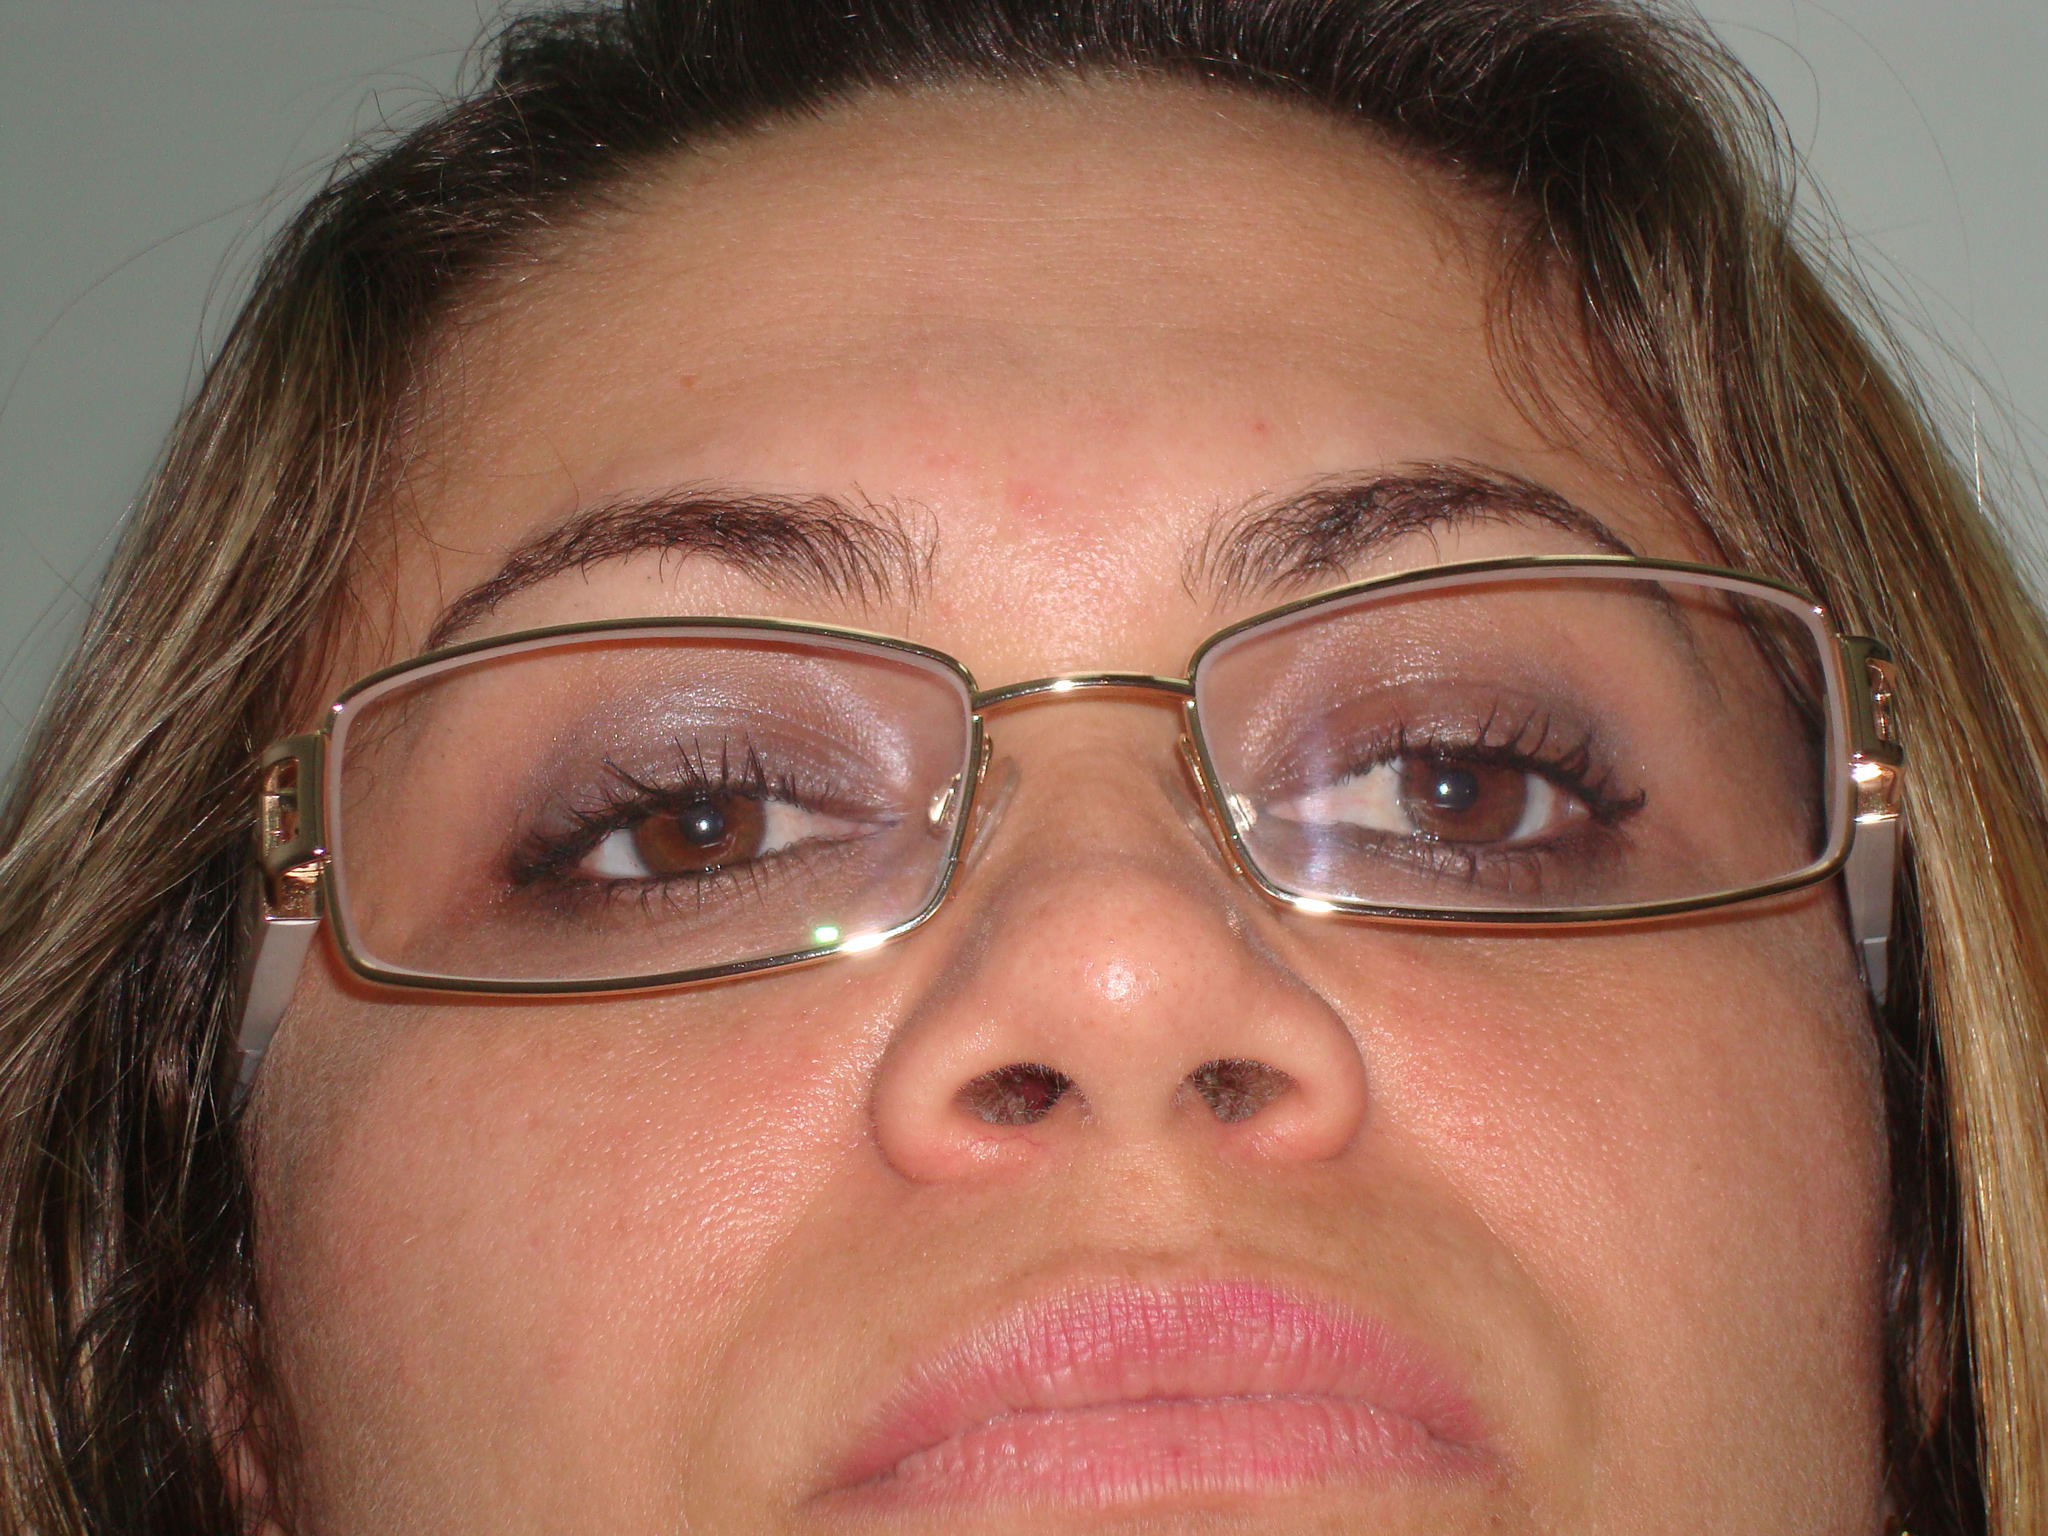flash: (693, 813, 716, 836), (1435, 781, 1453, 799)
limbo: (631, 765, 771, 878), (1392, 733, 1524, 845)
